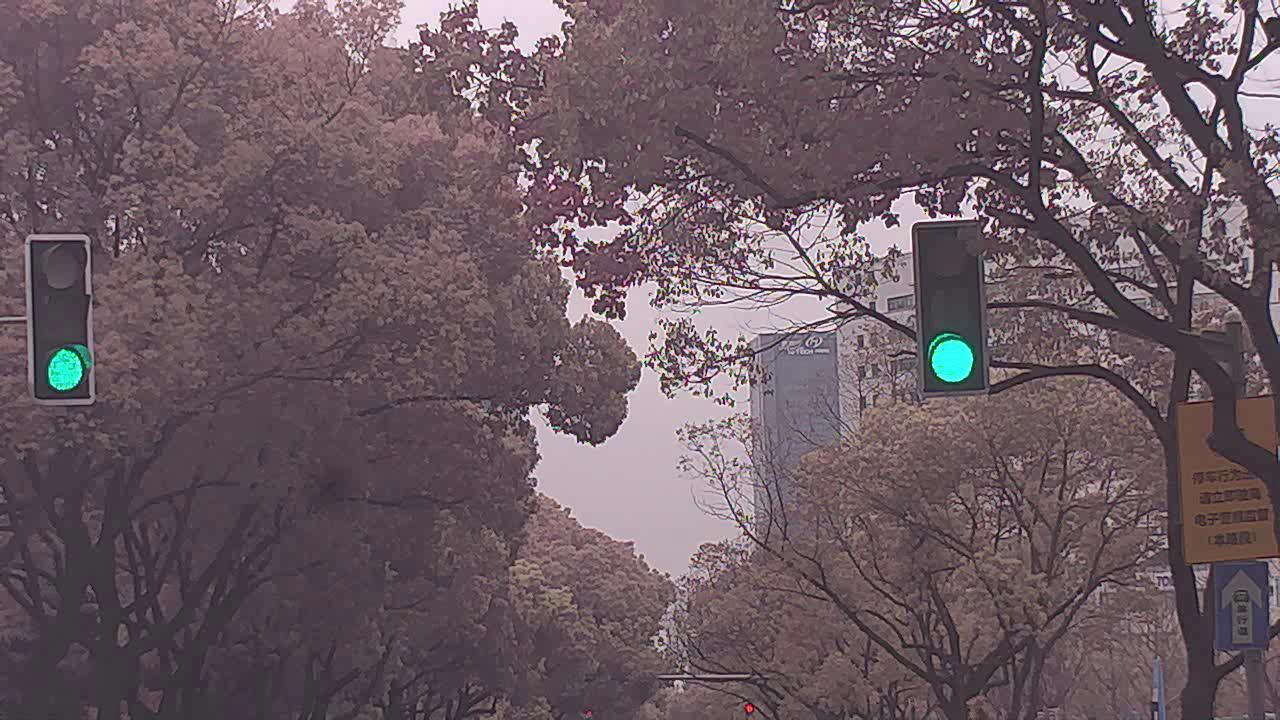traffic_light: (920, 223, 996, 386), (28, 241, 97, 409)
